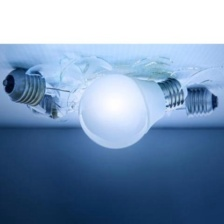light_bulb: (74, 70, 191, 152), (20, 83, 119, 146), (1, 66, 96, 123), (127, 84, 221, 134)
